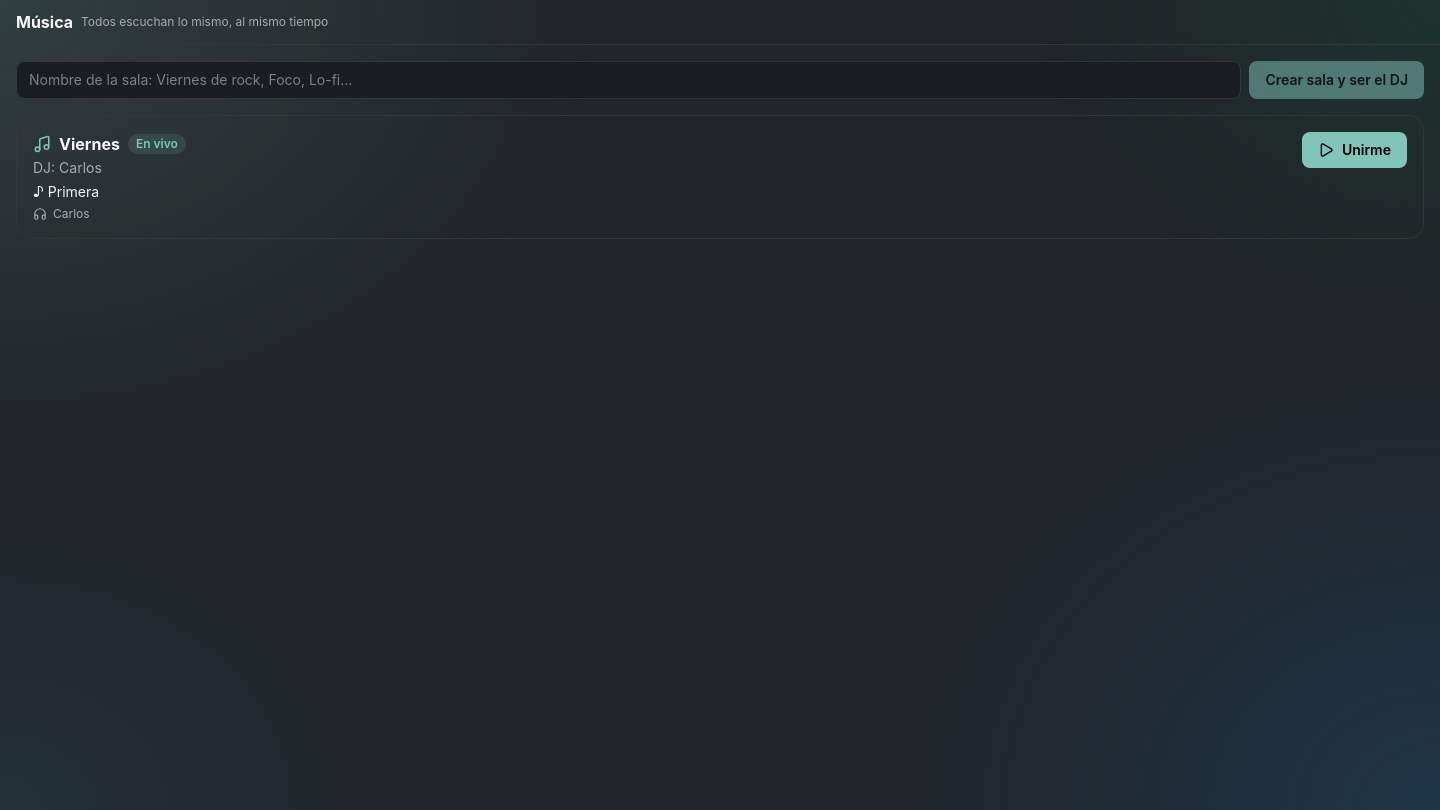
music rooms › a room deleted by its DJ takes its listeners out; an external has no music
Later steps or results of the test are not shown.
Click the button "Unirme": (1354, 150) [1302,132,1407,168]
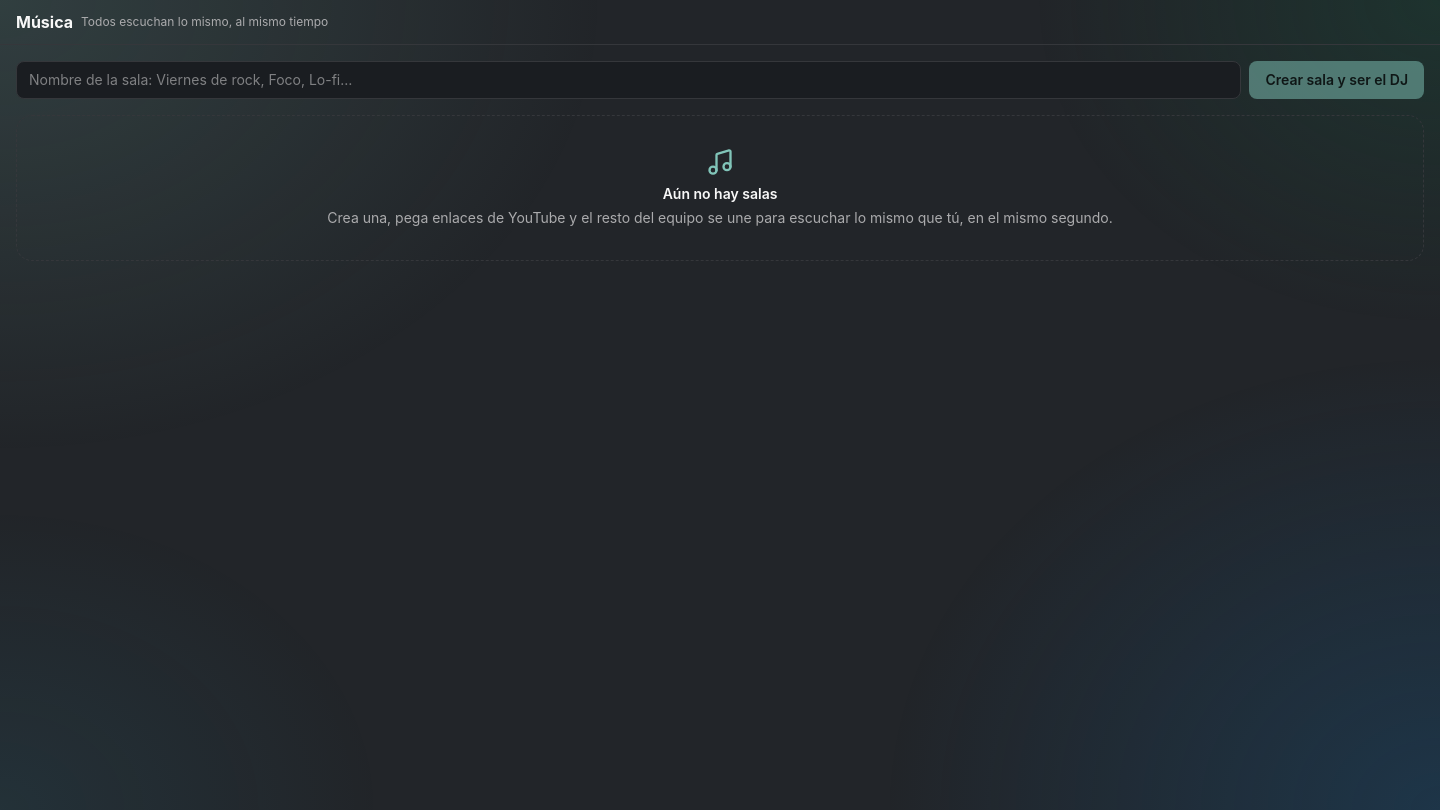
Expected: the text "Aún no hay salas" is shown, [663,185,777,202]
